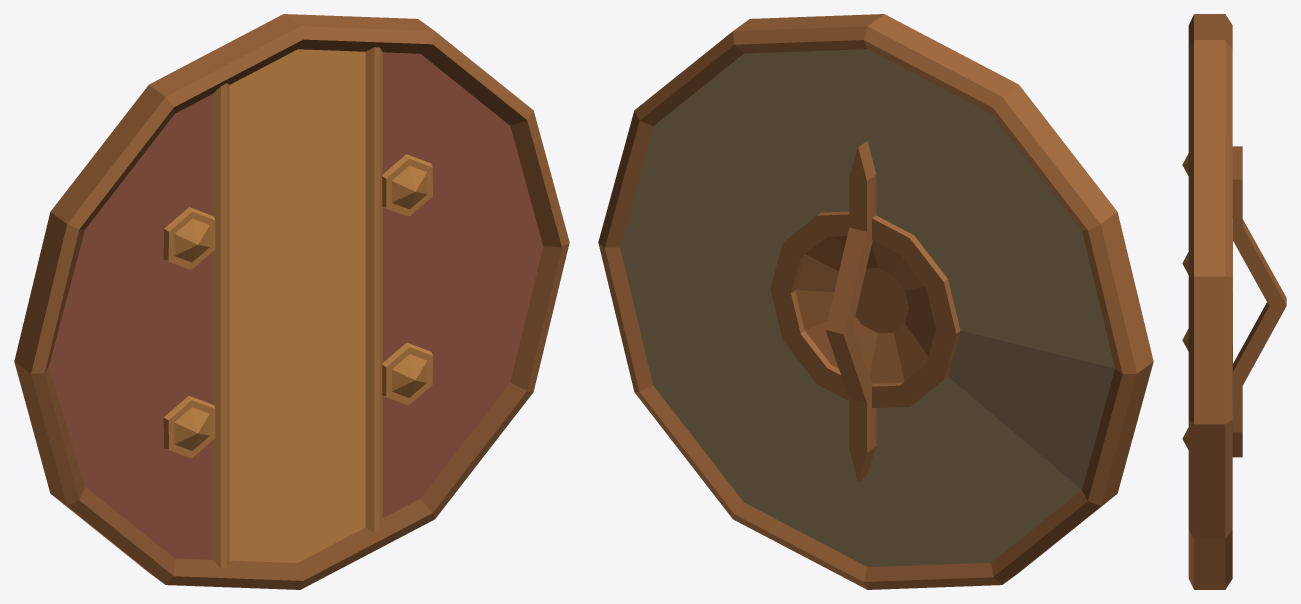
The model's file is SM_pwe_persia_shield_02.fbx.
3 renders of one model, left to right at view 1: azimuth 30°, elevation 25°; view 2: azimuth 150°, elevation 25°; view 3: azimuth 270°, elevation 25°, orthographic. The views are drawn at different scales.
Parts seen in each view (by area): view 1: SM_pwe_persia_shield_02; view 2: SM_pwe_persia_shield_02; view 3: SM_pwe_persia_shield_02.
Part boxes in pixels (x1,y1,x2,y2): SM_pwe_persia_shield_02: [14, 14, 569, 589]; SM_pwe_persia_shield_02: [598, 14, 1153, 589]; SM_pwe_persia_shield_02: [1182, 14, 1286, 589].
Bounding box in the file's own units: 70.52 × 70.52 × 12.72.
